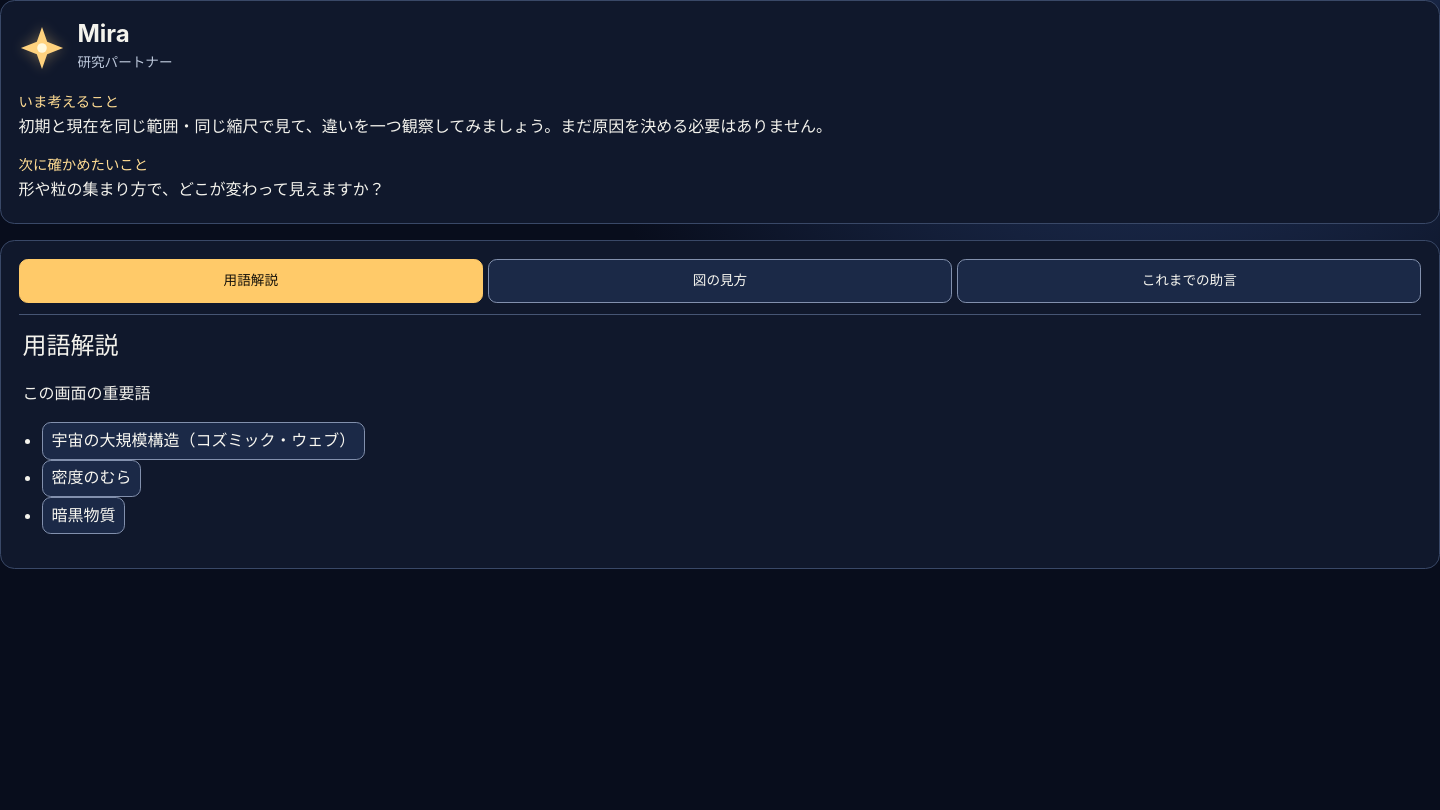
Test case: CompanionRail › keeps Mira visible and offers important terms in every tab
Expected: the heading "Mira" is shown, [77,19,130,48]
Expected: the button "宇宙の大規模構造（コズミック・ウェブ）" is shown, [42,422,365,460]
Click the tab "図の見方".
click(720, 281)  # box [488,259,952,303]
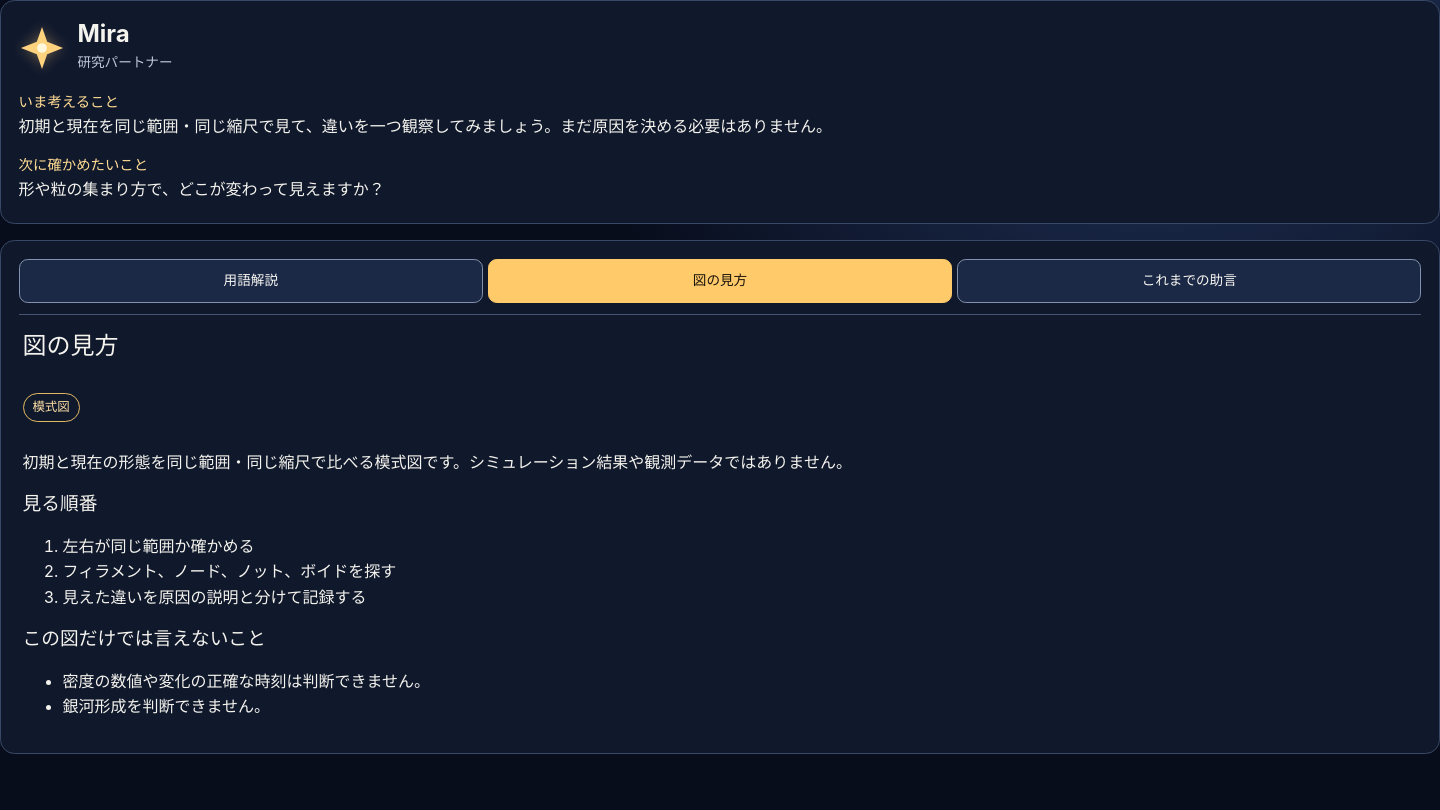
Expected: the heading "Mira" is shown, [77,19,130,48]
Expected: the text "初期と現在の形態を同じ範囲・同じ縮尺で比べる模式図です。シミュレーション結果や観測データではありません。" is shown, [23,452,852,472]
